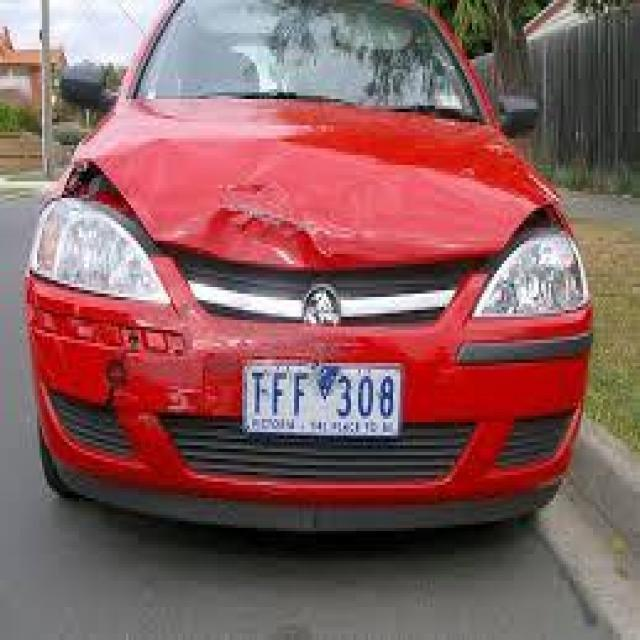damaged: (72, 155, 360, 277), (138, 274, 338, 426)
